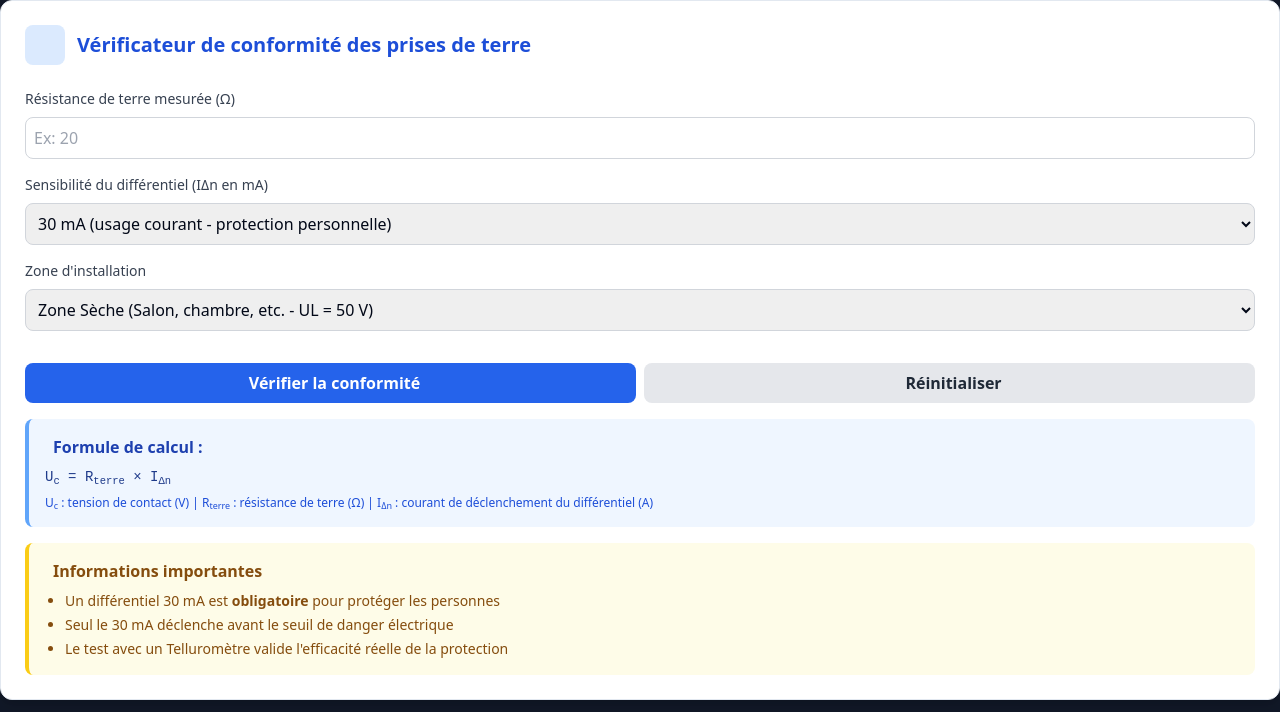
EarthResistanceChecker › calculates compliant result for low resistance in dry zone
The image size is (1280, 712).
Type "10" into the number field with placeholder "Ex: 20" at (640, 138), box [25, 117, 1255, 159]
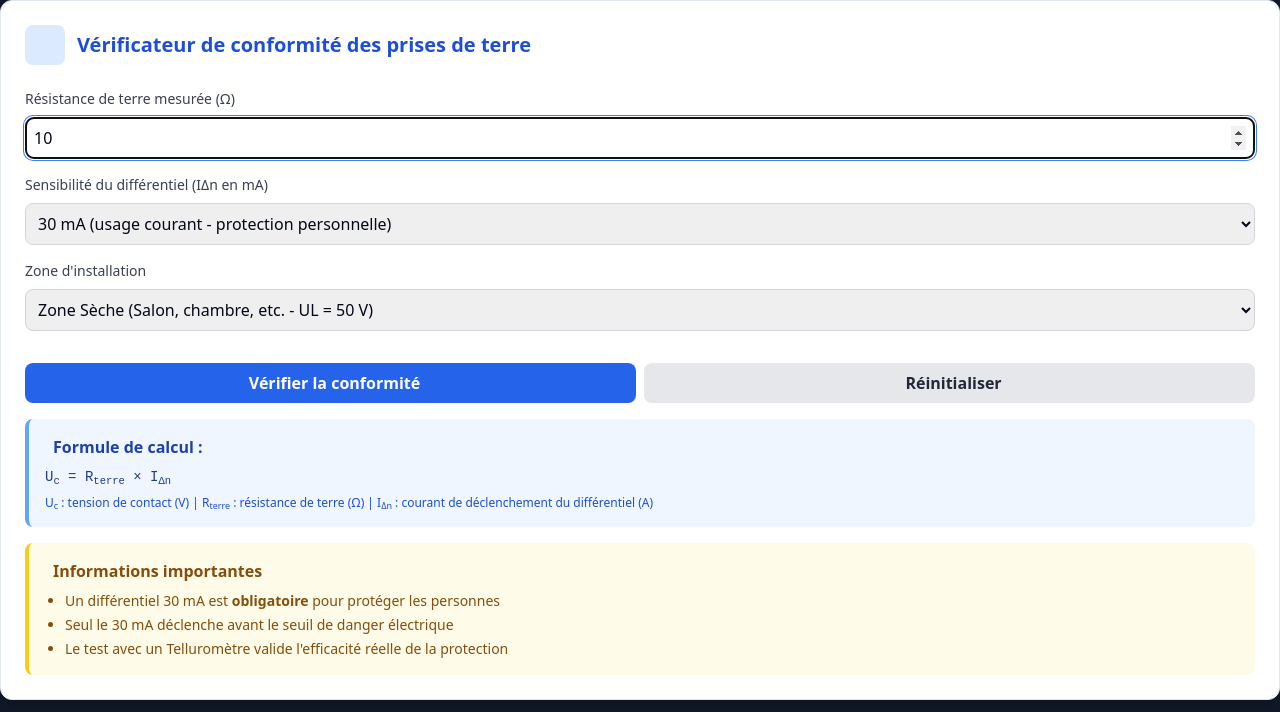
Click the button "Vérifier la conformité" at (330, 383), box [25, 363, 636, 403]
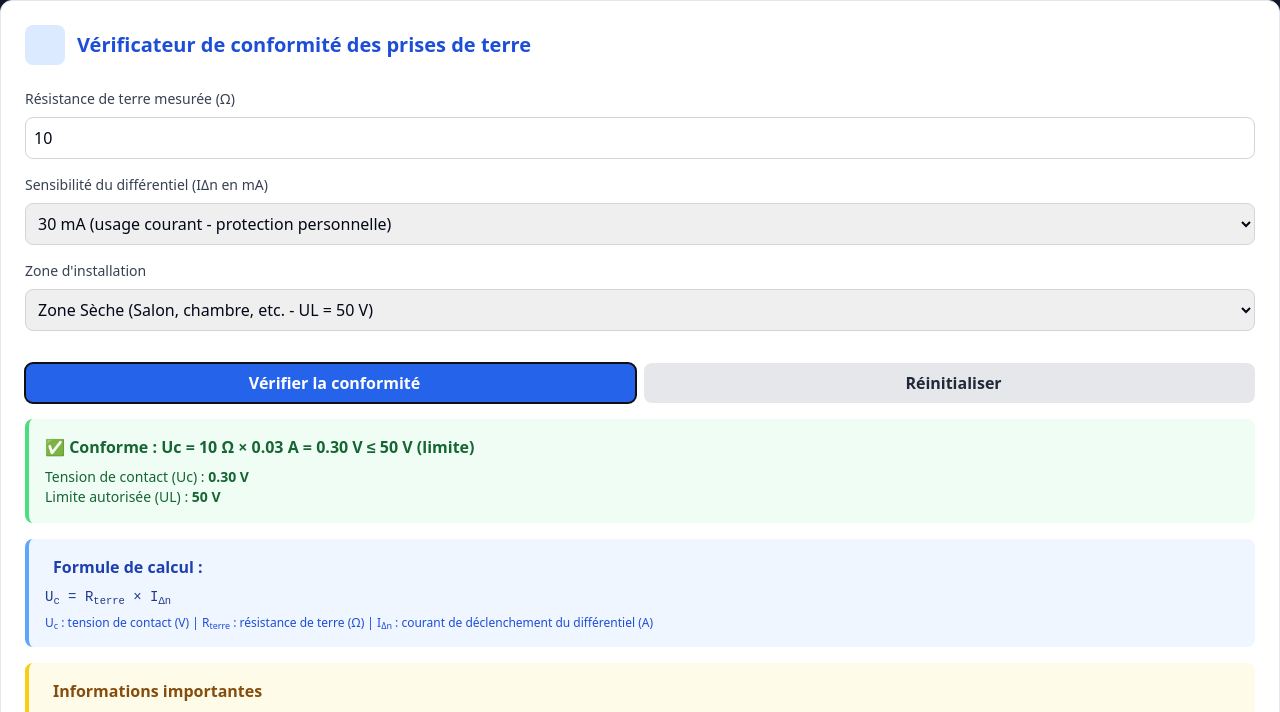
Expected: the text "✅ Conforme : Uc = 10 Ω × 0.03 A = 0.30 V ≤ 50 V (limite)" is shown, [45, 436, 474, 458]
